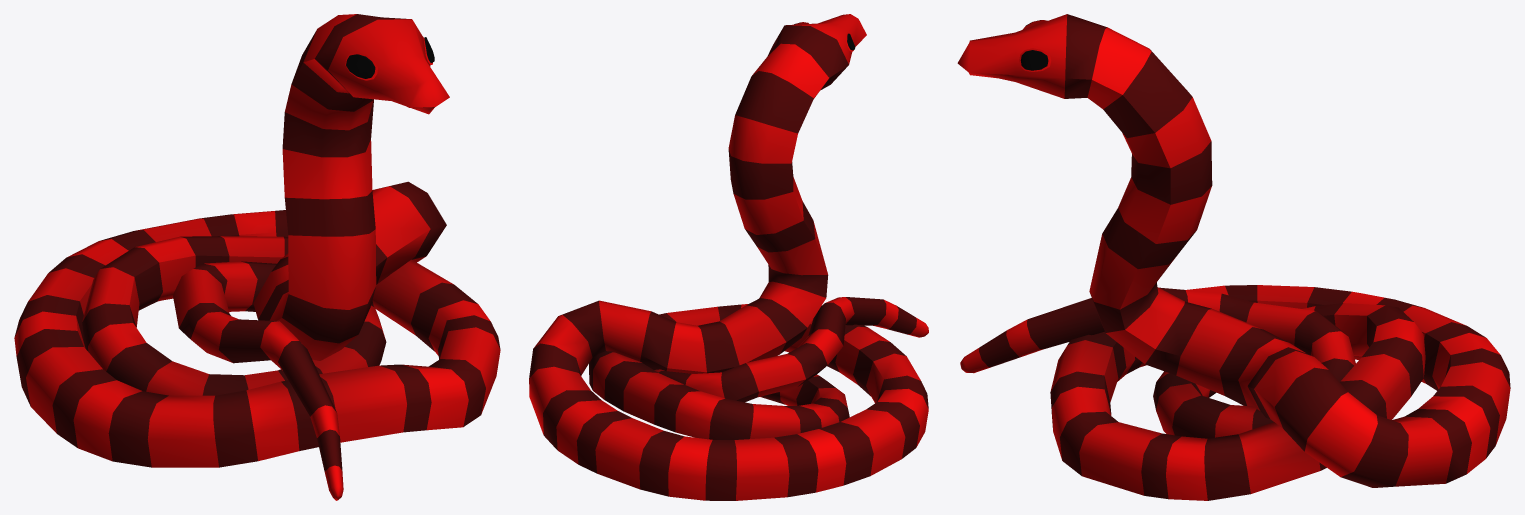
The model's file is Reptiles_CoralSnake.fbx.
3 renders of one model, left to right at view 1: azimuth 30°, elevation 25°; view 2: azimuth 150°, elevation 25°; view 3: azimuth 270°, elevation 25°, orthographic. The views are drawn at different scales.
Parts seen in each view (by area): view 1: base; view 2: base; view 3: base.
Boxes of the visible parts, x1,y1,x2,y2 form: base: (14,14,500,500); base: (529,14,928,500); base: (957,14,1510,500).
Bounding box in the file's own units: 56.37 × 55.19 × 66.59.
